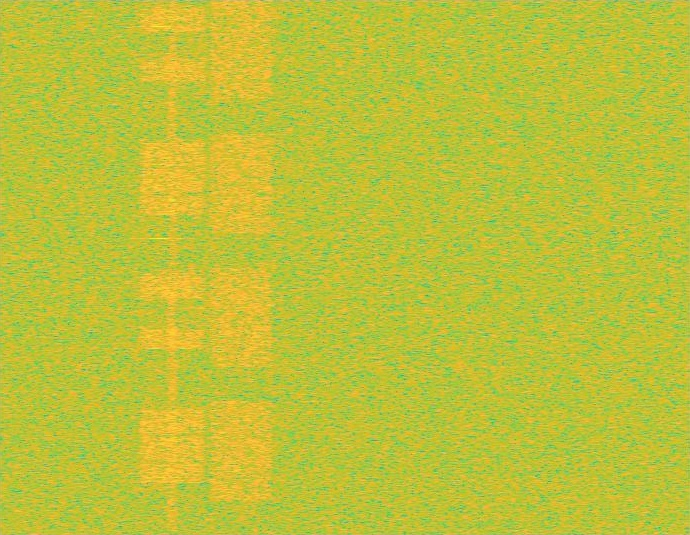5G: (207, 0, 276, 534)
DSSS: (168, 0, 177, 534)
LTE: (138, 0, 207, 534)
Radar: (154, 0, 167, 534)
